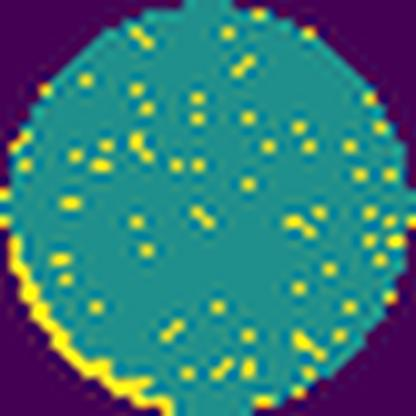Edge-Loc: (10, 236, 174, 416)
